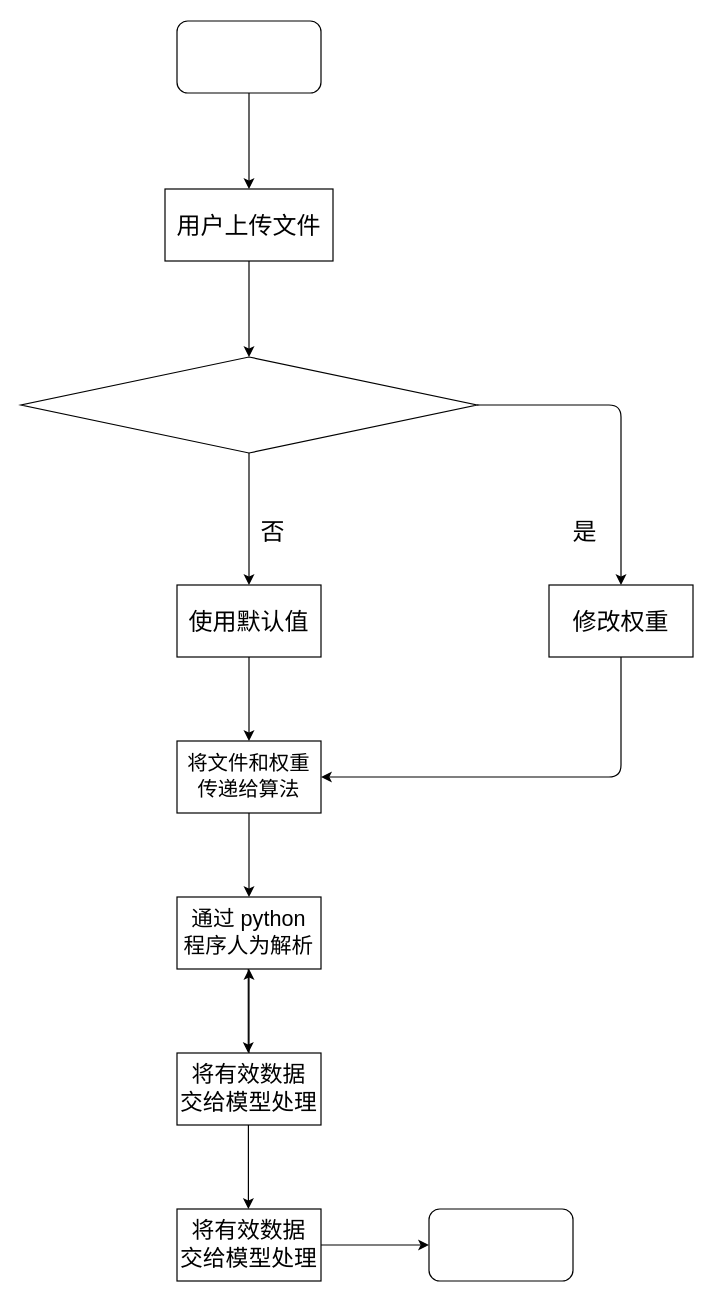
Some shapes in this 714 by 1302 pixel diagram are drawn without their labels. The centre of each missing label's shape, as x and y in pixels:
"开始" belongs at pixel 248 56.
"是否设置自定义权重？" belongs at pixel 248 404.
"结束" belongs at pixel 500 1244.
